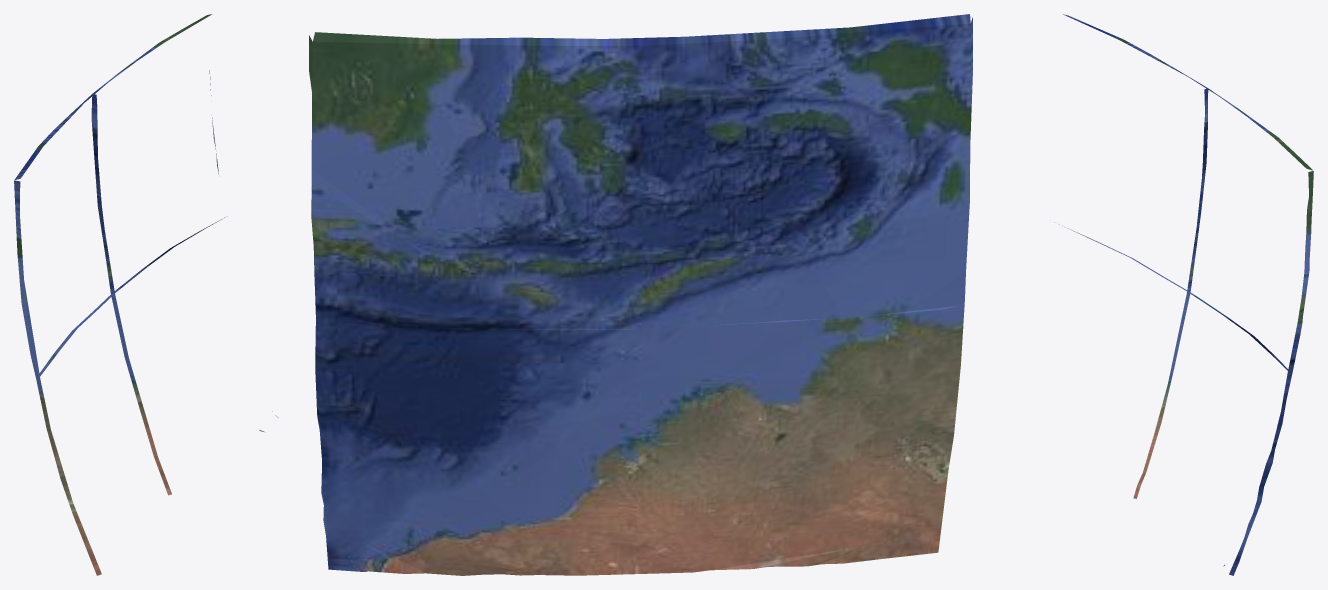
3 views of the same model, side by side, from view 1: azimuth 30°, elevation 25°; view 2: azimuth 150°, elevation 25°; view 3: azimuth 270°, elevation 25° (orthographic). The views are drawn at different scales.
Size of the model in its own units: 2283283 by 2456578 by 1762595.
1 material, 1 textured.
